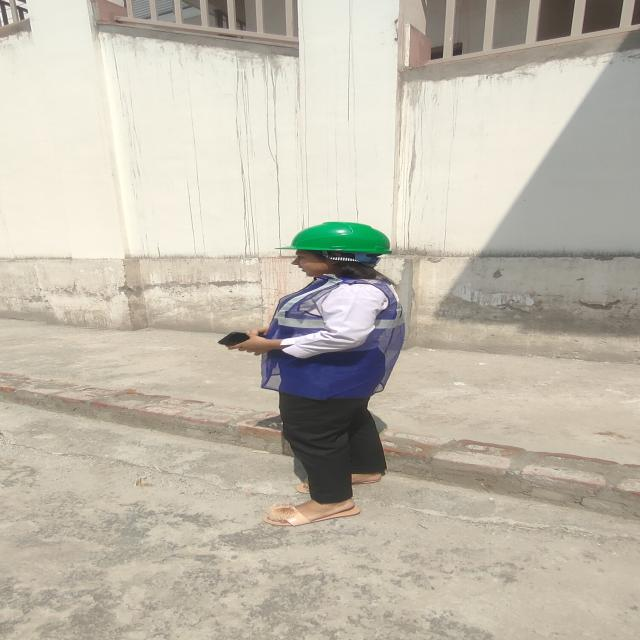safe: (260, 222, 406, 524)
